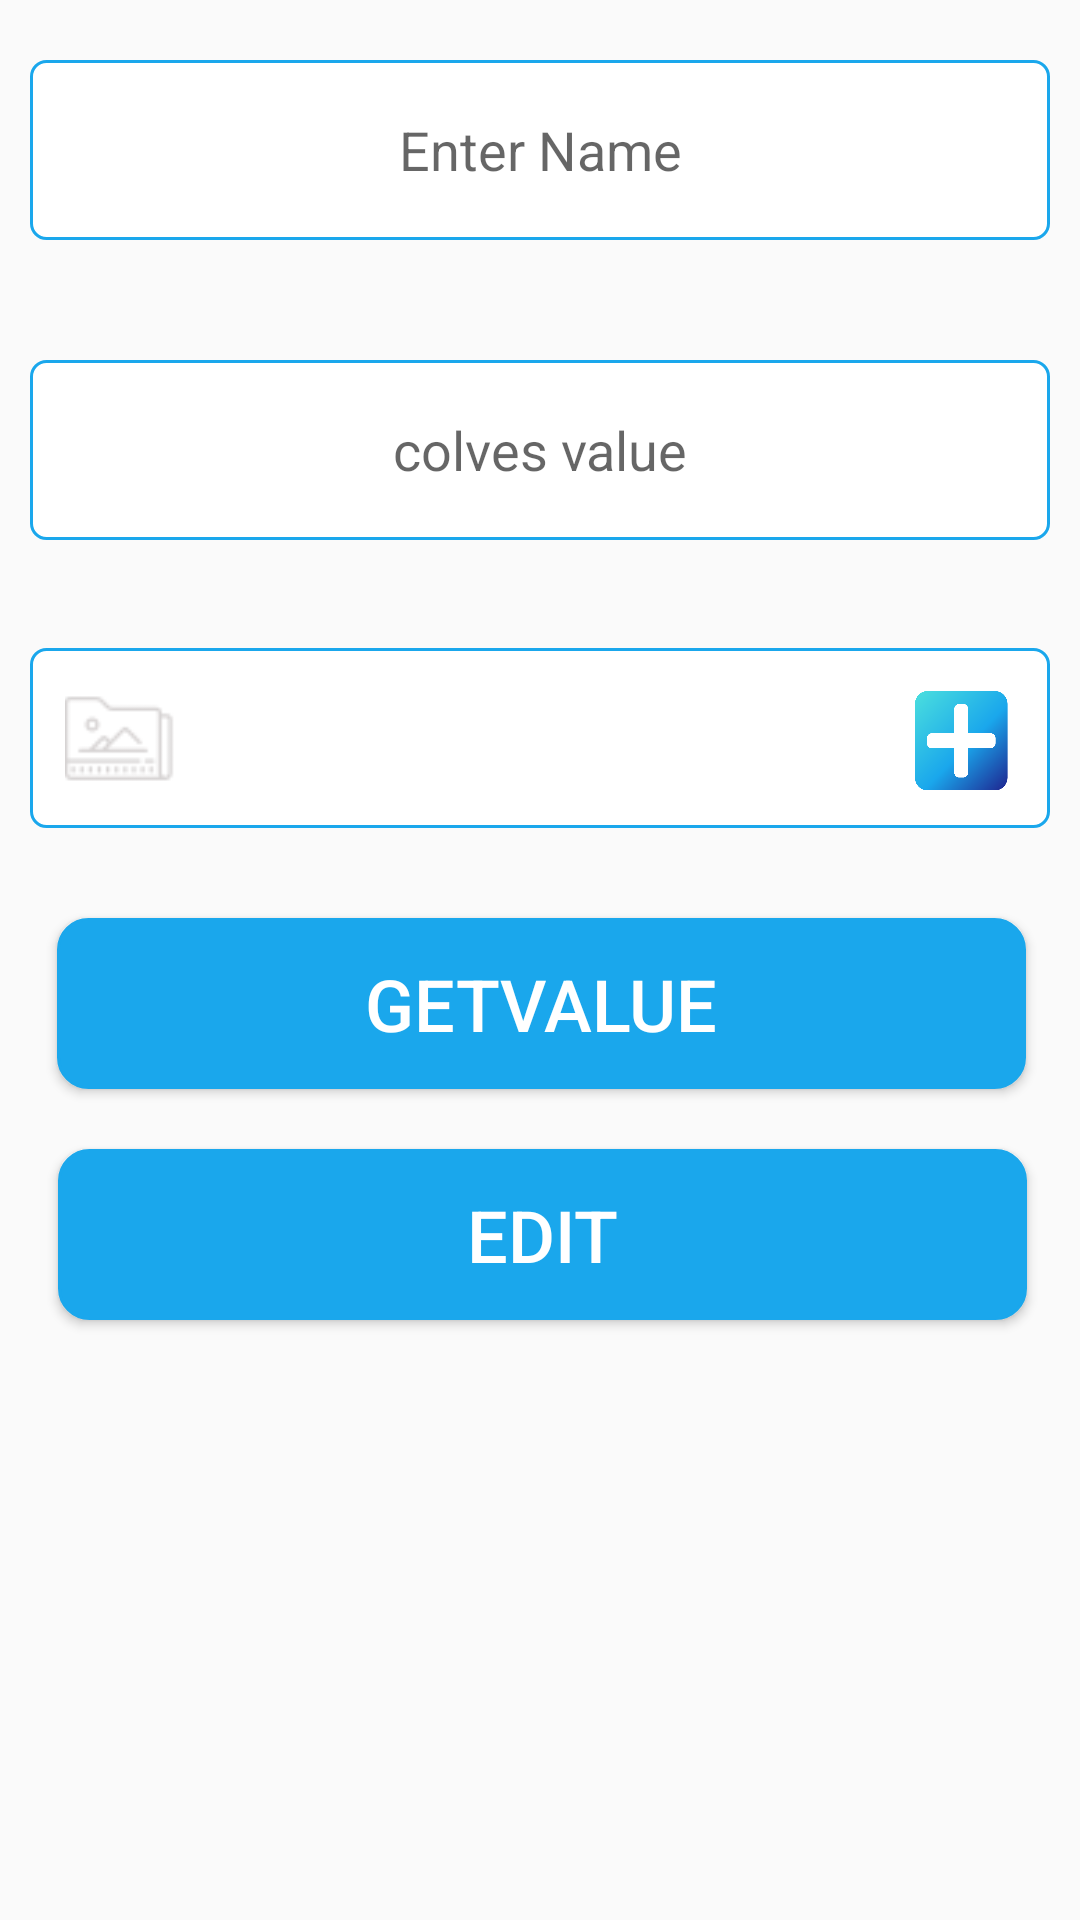

Icon bounding boxes for this 1080px x 1920px phone screenshot, format (x1, y1, x2, y2):
pictures folder: (65, 697, 172, 780)
